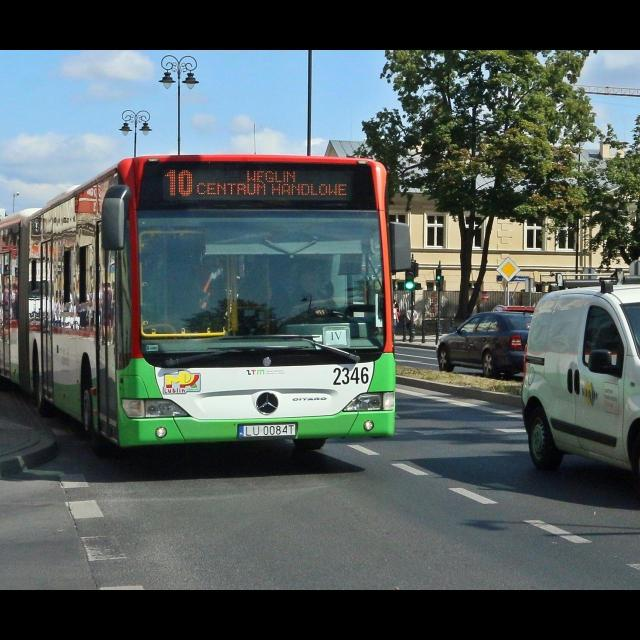Bus: (0, 155, 404, 451)
Tree: (362, 50, 598, 320)
